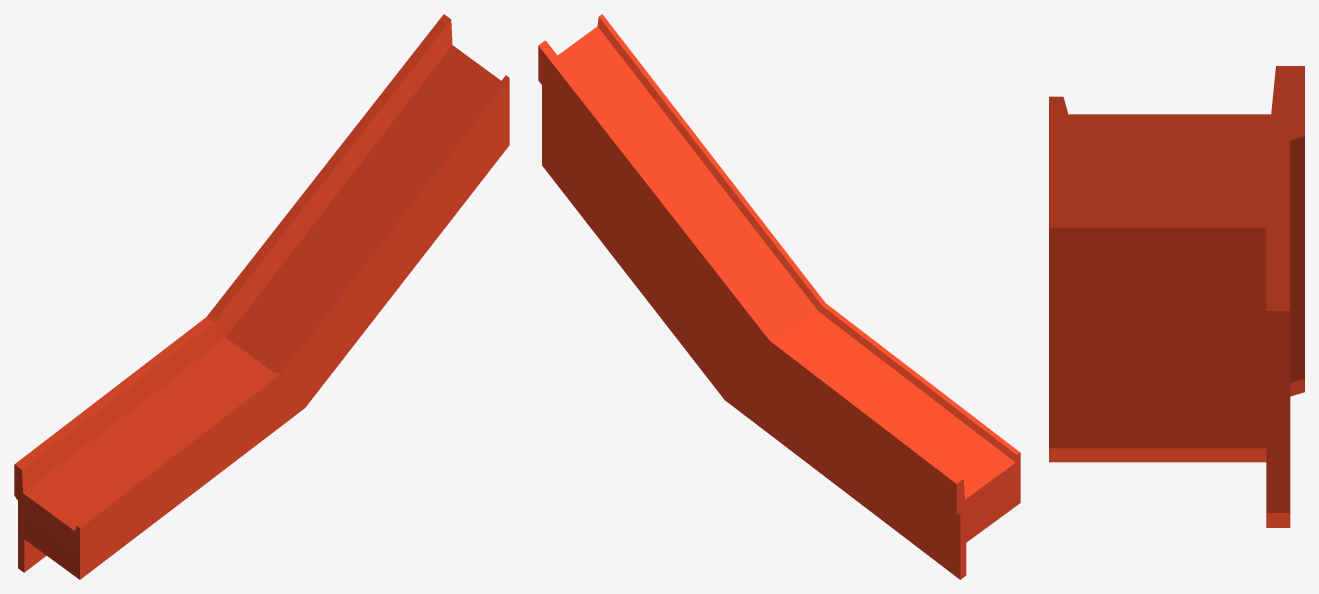
File: roof-metal-moderate-regular-2m-front.fbx
The picture shows the model from 3 angles, left to right: view 1: azimuth 30°, elevation 25°; view 2: azimuth 150°, elevation 25°; view 3: azimuth 270°, elevation 25°; orthographic projection. The views are drawn at different scales.
Parts seen in each view (by area): view 1: roof-metal-moderate-regular-2m-front; view 2: roof-metal-moderate-regular-2m-front; view 3: roof-metal-moderate-regular-2m-front.
Part boxes in pixels (bbox=[...]): roof-metal-moderate-regular-2m-front: bbox=[14, 14, 509, 579]; roof-metal-moderate-regular-2m-front: bbox=[538, 14, 1020, 579]; roof-metal-moderate-regular-2m-front: bbox=[1049, 66, 1304, 527].
Bounding box in the file's own units: 2 × 1.99 × 0.53.
